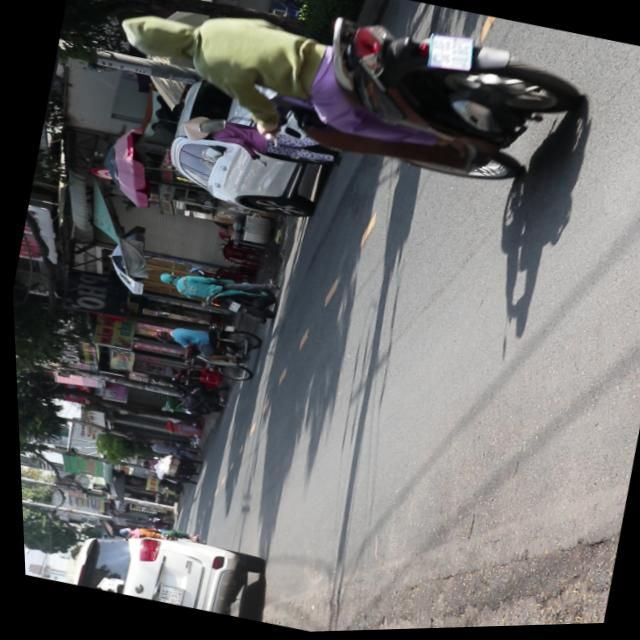helmet: (115, 7, 201, 69), (155, 270, 176, 287)
licenseplate: (98, 0, 598, 218), (148, 260, 277, 326)
nohelmet: (420, 32, 473, 76)
